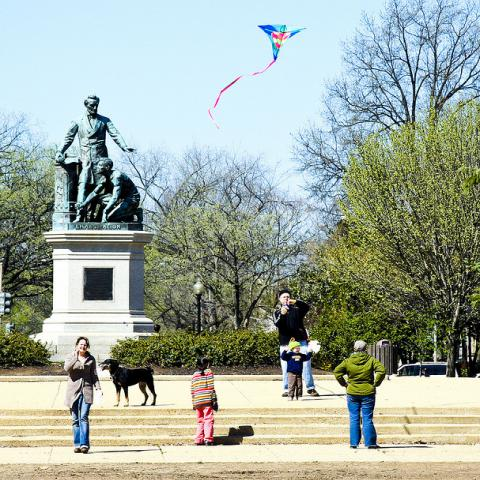car: (397, 361, 460, 378)
